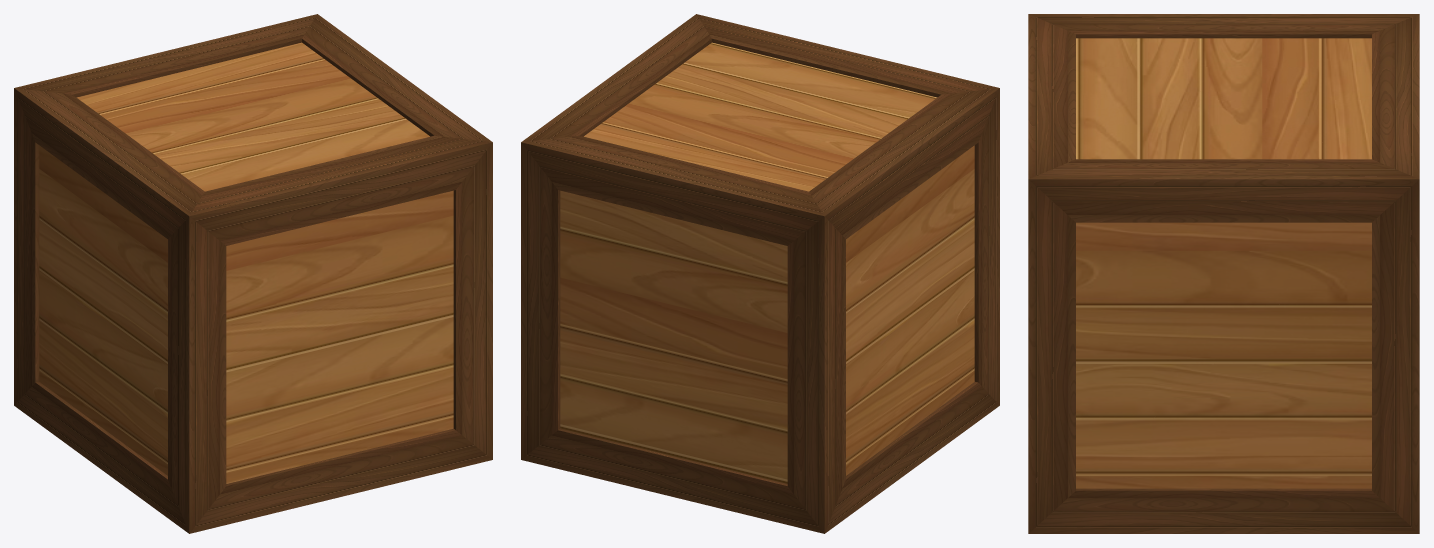
Rendered from Crate1.fbx.
3 renders of one model, left to right at view 1: azimuth 30°, elevation 25°; view 2: azimuth 150°, elevation 25°; view 3: azimuth 270°, elevation 25°, orthographic. The views are drawn at different scales.
Parts seen in each view (by area): view 1: Crate1; view 2: Crate1; view 3: Crate1.
Boxes of the visible parts, <box> form: Crate1: <box>14,14,492,533</box>; Crate1: <box>521,14,999,533</box>; Crate1: <box>1028,14,1419,533</box>.
Size of the model in its own units: 2.05 by 2.05 by 2.05.
